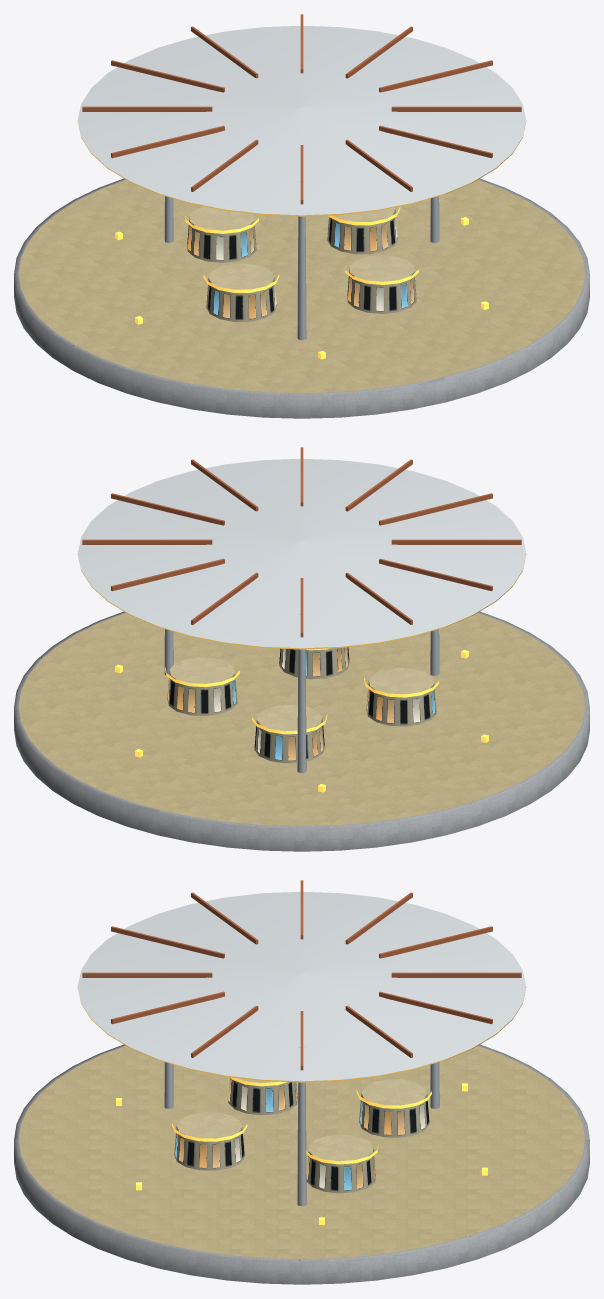
File: mercury_shade_village.glb
3 renders of one model, top to bottom at view 1: azimuth 30°, elevation 25°; view 2: azimuth 150°, elevation 25°; view 3: azimuth 270°, elevation 25°, orthographic.
Visible parts, largest first — view 1: mercury_shade_village_LOD0; view 2: mercury_shade_village_LOD0; view 3: mercury_shade_village_LOD0.
Part boxes in pixels (bbox=[...]): mercury_shade_village_LOD0: bbox=[14, 14, 589, 418]; mercury_shade_village_LOD0: bbox=[14, 447, 589, 851]; mercury_shade_village_LOD0: bbox=[14, 880, 589, 1284].
Size of what is drawn, in the model's own units: 48.8 by 17.75 by 48.8.
Materials: 3 (3 with a texture image).
